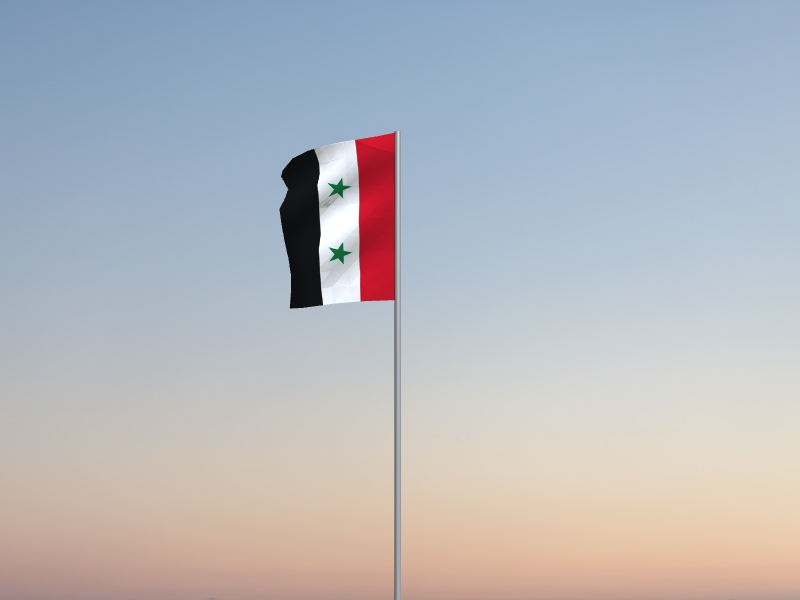sy: (278, 133, 394, 310)
